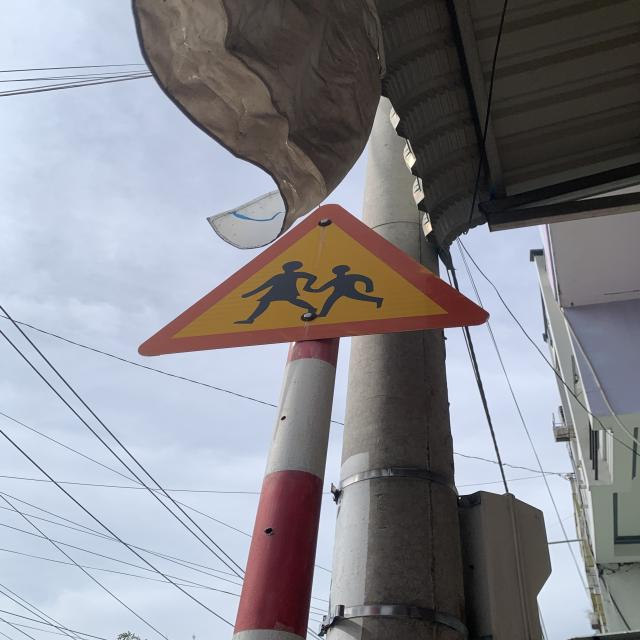Vong_Xuyen: (138, 199, 492, 359)
